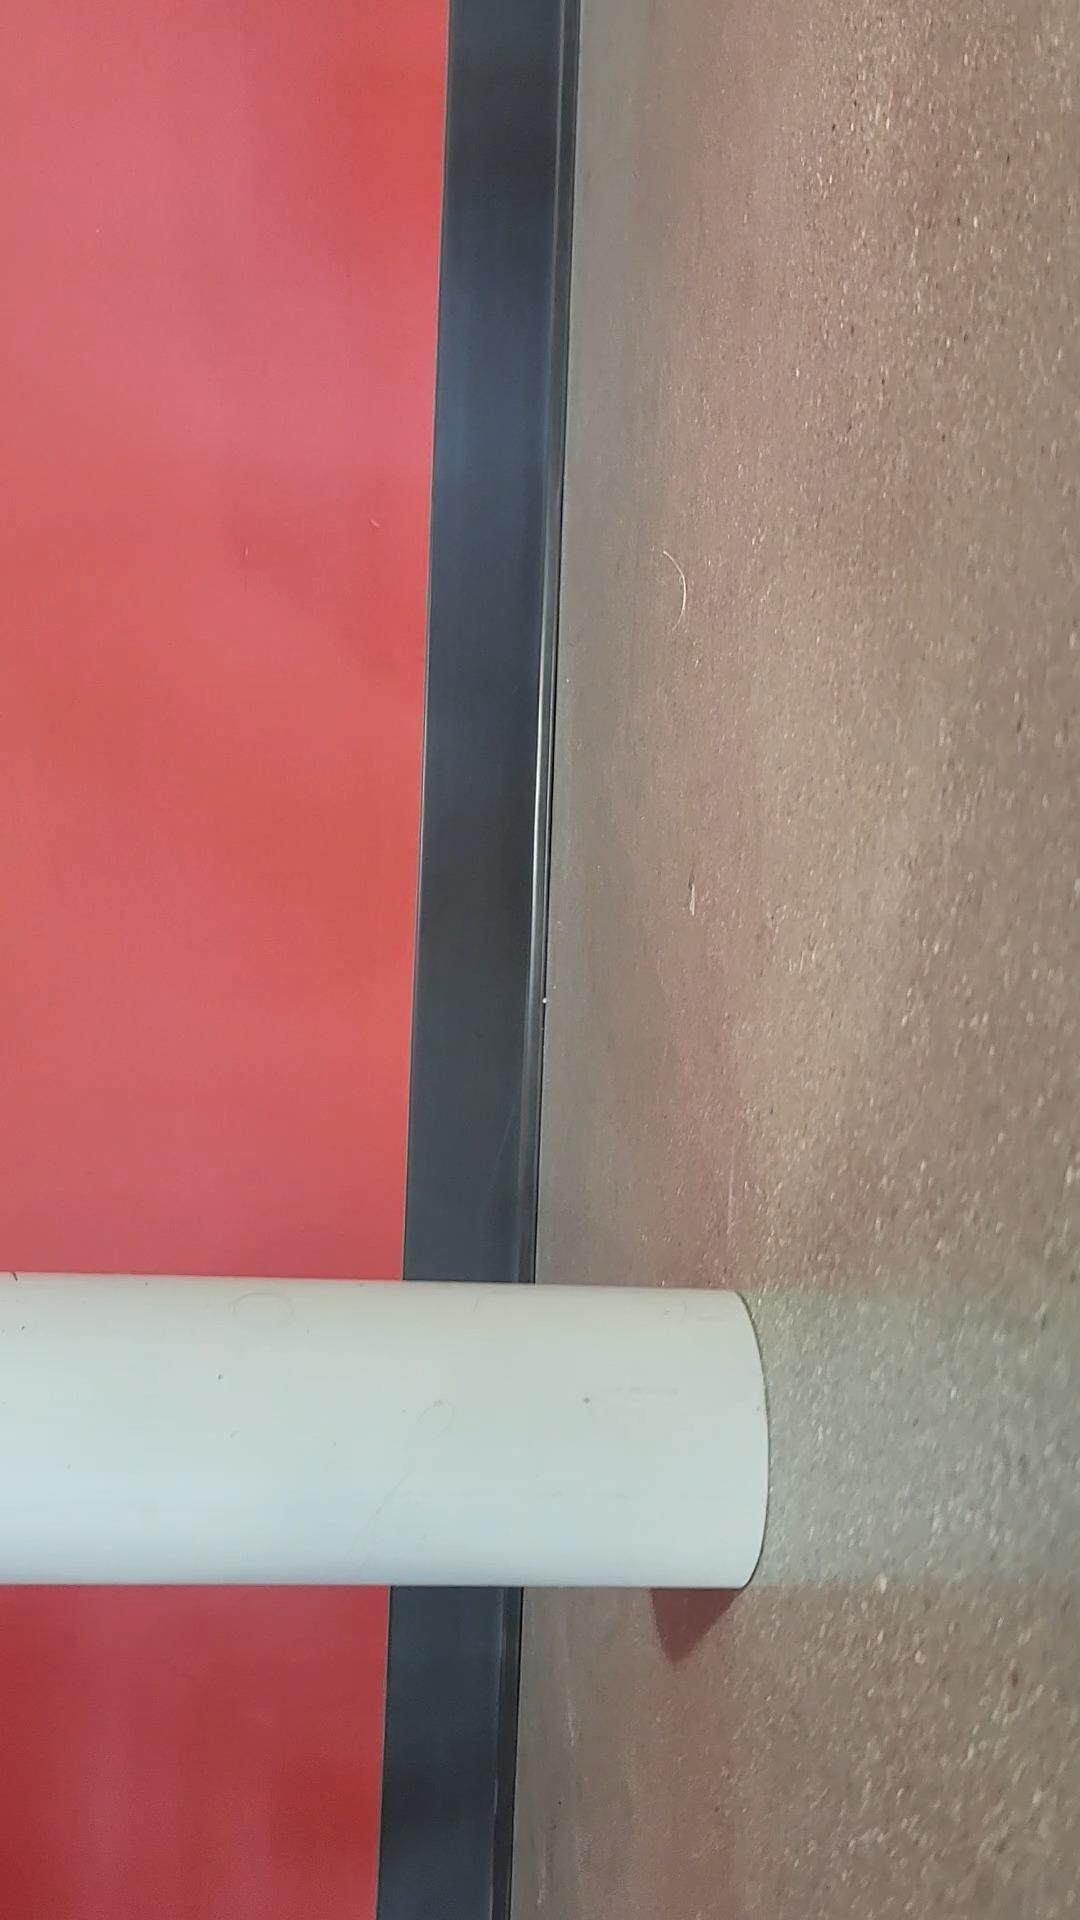coral: (0, 1254, 781, 1597)
